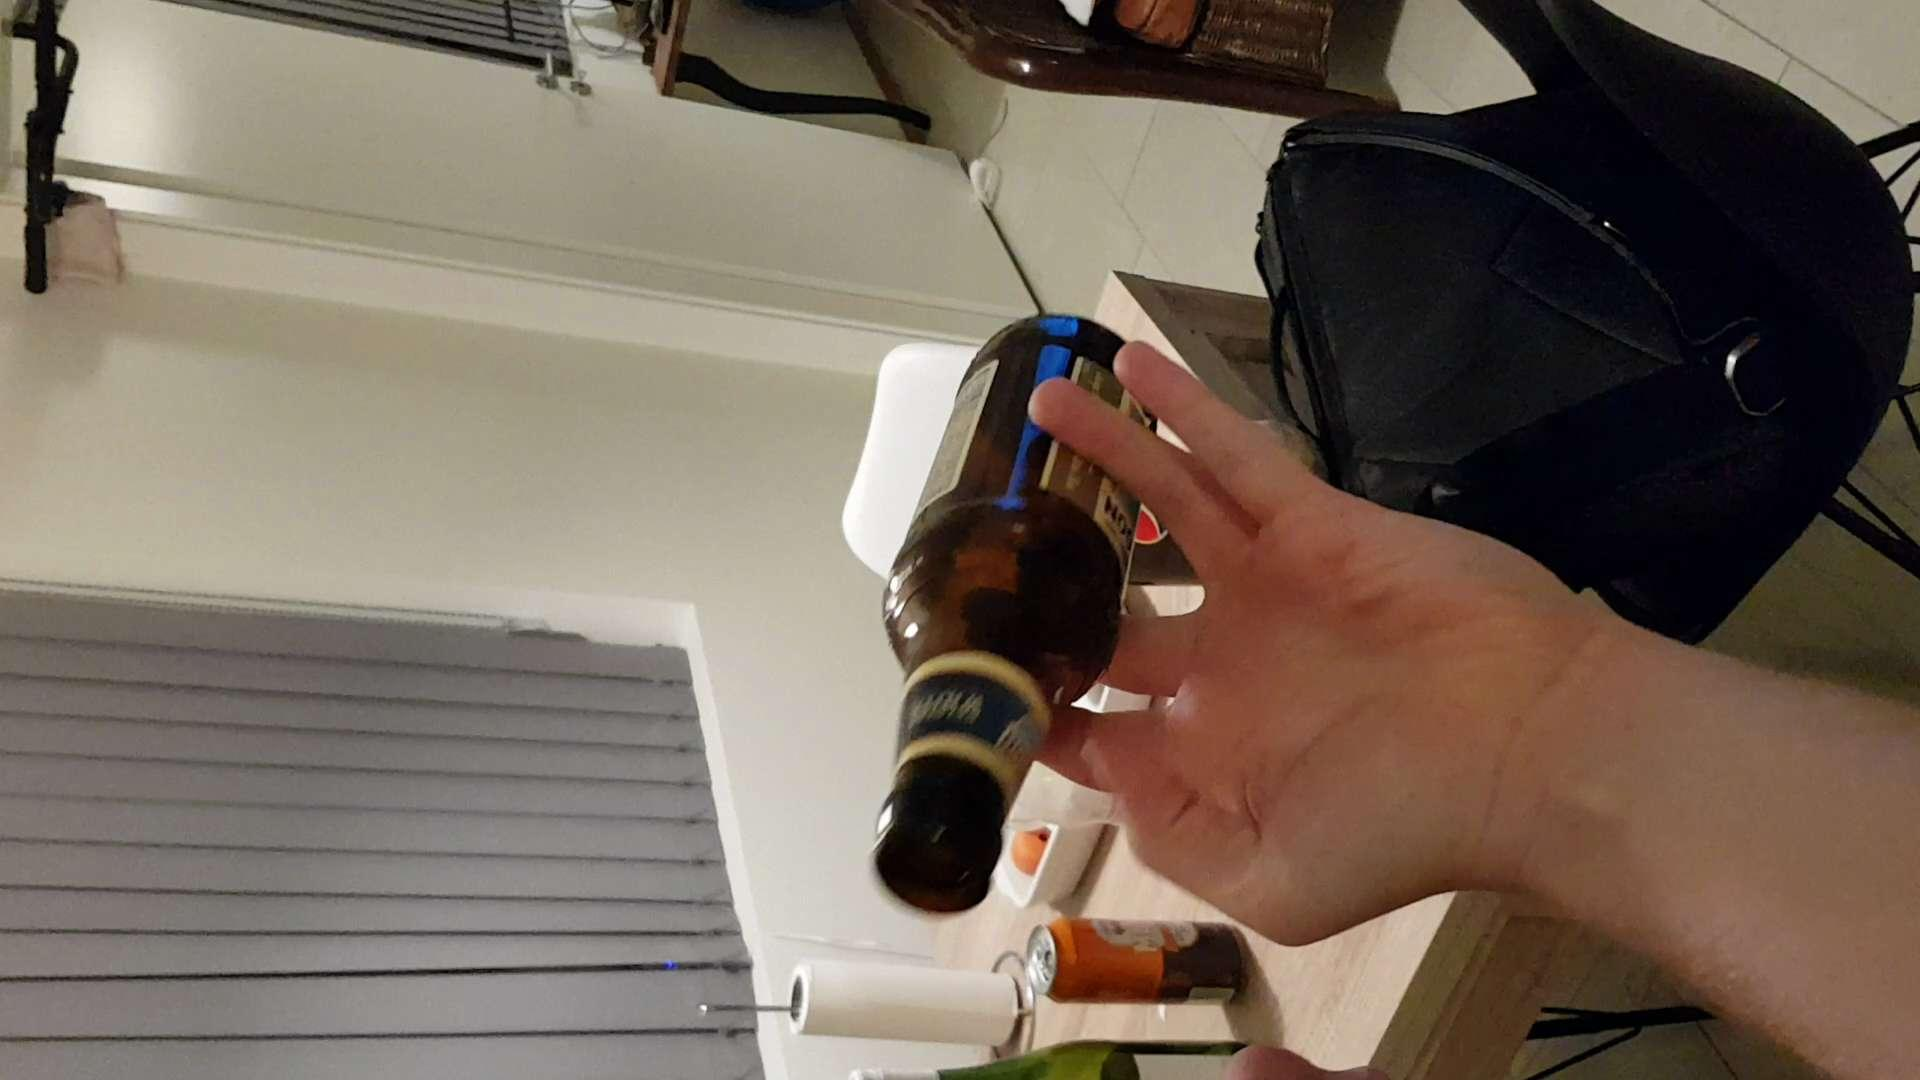Bottle: (868, 313, 1178, 932)
Can: (1021, 909, 1261, 1019)
